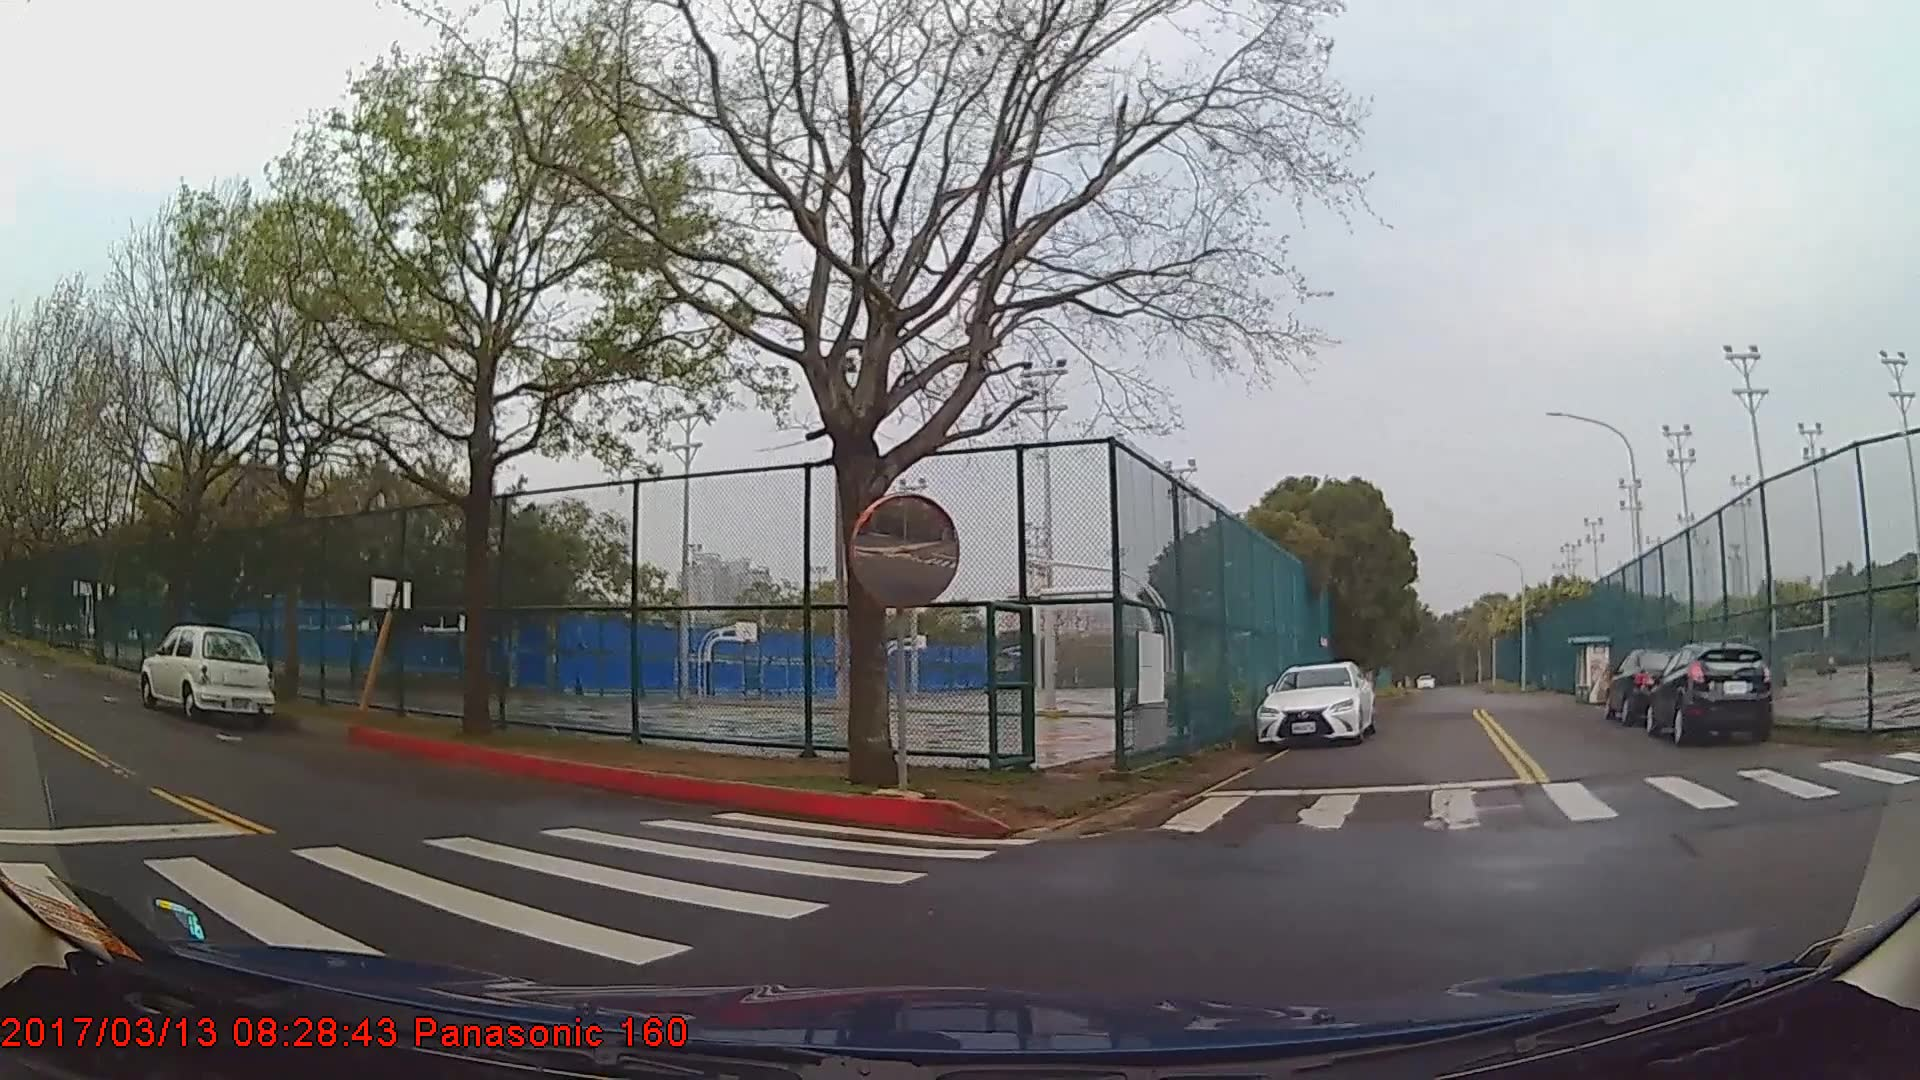vehicle: (136, 622, 280, 723), (1644, 647, 1771, 750), (1255, 661, 1375, 750), (1602, 646, 1696, 724)
